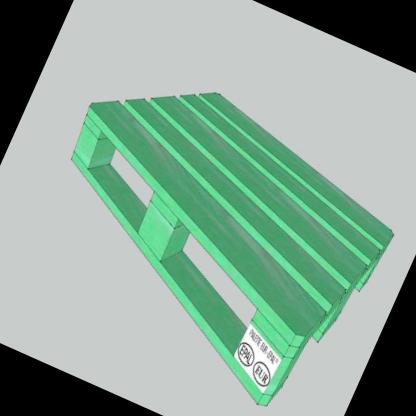BoxFace: (68, 92, 394, 410)
